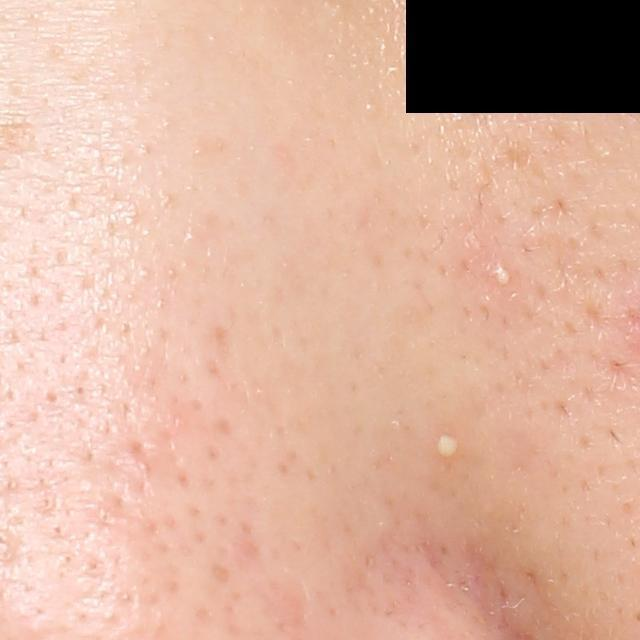pustule: (434, 427, 465, 462), (489, 260, 517, 288)
